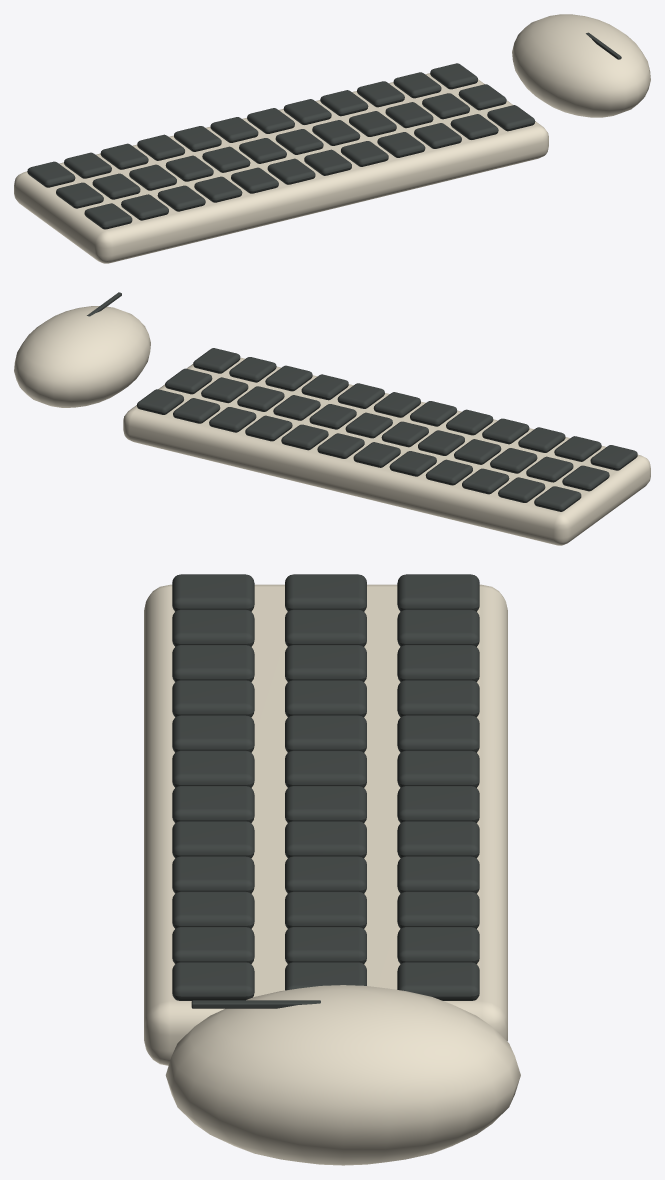
File: keyboard_mouse.glb
3 views of the same model, one above another, from view 1: azimuth 30°, elevation 25°; view 2: azimuth 150°, elevation 25°; view 3: azimuth 270°, elevation 25° (orthographic). The views are drawn at different scales.
Parts seen in each view (by area): view 1: Keyboard Base, Mouse, Keyboard Key.003, Keyboard Key.033, Keyboard Key, Keyboard Key.001, Keyboard Key.016, Keyboard Key.023, Keyboard Key.024, Keyboard Key.013, Keyboard Key.018, Keyboard Key.021 (+26 smaller); view 2: Keyboard Base, Mouse, Keyboard Key.009, Keyboard Key.002, Keyboard Key.003, Keyboard Key.012, Keyboard Key.018, Keyboard Key.020, Keyboard Key, Keyboard Key.001, Keyboard Key.019, Keyboard Key.028 (+26 smaller); view 3: Keyboard Base, Mouse, Keyboard Key.011, Keyboard Key.004, Keyboard Key.008, Keyboard Key.028, Keyboard Key.032, Keyboard Key, Keyboard Key.001, Keyboard Key.003, Keyboard Key.005, Keyboard Key.007 (+27 smaller).
Boxes of the visible parts, x1,y1,x2,y2 form: Keyboard Base: (14, 73, 548, 263); Mouse: (512, 14, 650, 117); Keyboard Key.003: (194, 176, 242, 202); Keyboard Key.033: (357, 81, 404, 107); Keyboard Key: (84, 203, 132, 229); Keyboard Key.001: (121, 194, 168, 220); Keyboard Key.016: (202, 146, 250, 172); Keyboard Key.023: (458, 84, 506, 110); Keyboard Key.024: (27, 161, 75, 187); Keyboard Key.013: (92, 173, 140, 199); Keyboard Key.018: (275, 129, 323, 154); Keyboard Key.021: (385, 102, 433, 128); Keyboard Base: (123, 357, 650, 545); Mouse: (14, 306, 150, 407); Keyboard Key.009: (265, 365, 312, 391); Keyboard Key.002: (518, 427, 565, 452); Keyboard Key.003: (482, 418, 529, 444); Keyboard Key.012: (562, 465, 609, 491); Keyboard Key.018: (345, 412, 392, 438); Keyboard Key.020: (273, 395, 320, 420); Keyboard Key: (590, 445, 637, 470); Keyboard Key.001: (554, 436, 601, 461); Keyboard Key.019: (309, 404, 356, 429); Keyboard Key.028: (389, 451, 436, 476); Keyboard Base: (144, 584, 507, 1065); Mouse: (165, 985, 520, 1165); Keyboard Key.011: (172, 962, 254, 1000); Keyboard Key.004: (172, 715, 254, 752); Keyboard Key.008: (172, 856, 254, 893); Keyboard Key.028: (397, 715, 479, 752); Keyboard Key.032: (397, 856, 479, 893); Keyboard Key: (172, 574, 254, 611); Keyboard Key.001: (172, 609, 254, 646); Keyboard Key.003: (172, 680, 254, 717); Keyboard Key.005: (172, 750, 254, 787); Keyboard Key.007: (172, 821, 254, 858).
Bounding box in the file's own units: 0.307 × 0.038 × 0.087.
